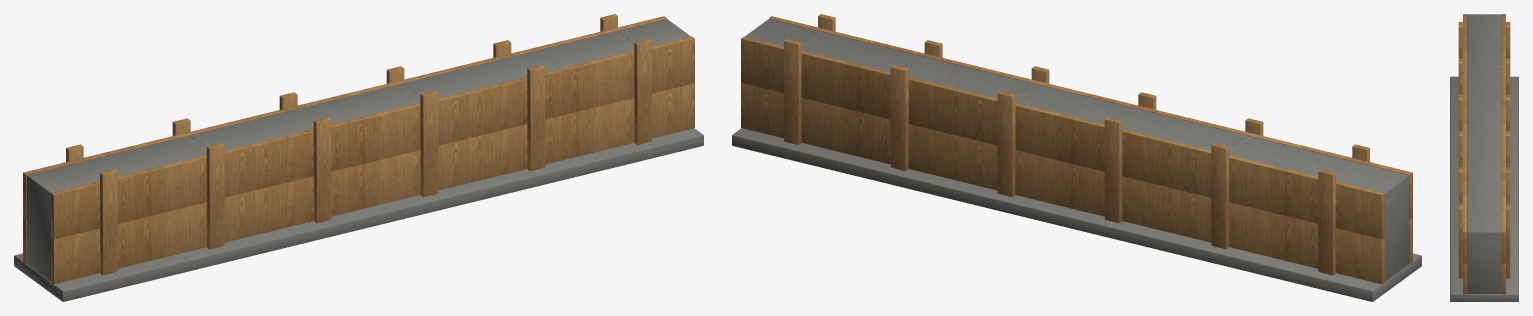
File: KIT-FUN-03_lod1.glb
The picture shows the model from 3 angles, left to right: view 1: azimuth 30°, elevation 25°; view 2: azimuth 150°, elevation 25°; view 3: azimuth 270°, elevation 25°; orthographic projection. The views are drawn at different scales.
Visible parts, largest first — view 1: KIT-FUN-03_tabua.001, KIT-FUN-03_tabua, KIT-FUN-03_viga, KIT-FUN-03_lastro, KIT-FUN-03_tabua.003, KIT-FUN-03_sarrafo.002, KIT-FUN-03_sarrafo.001, KIT-FUN-03_sarrafo.004, KIT-FUN-03_sarrafo.003, KIT-FUN-03_sarrafo, KIT-FUN-03_sarrafo.005; view 2: KIT-FUN-03_tabua.003, KIT-FUN-03_tabua.002, KIT-FUN-03_viga, KIT-FUN-03_lastro, KIT-FUN-03_tabua.001, KIT-FUN-03_sarrafo.008, KIT-FUN-03_sarrafo.007, KIT-FUN-03_sarrafo.010, KIT-FUN-03_sarrafo.009, KIT-FUN-03_sarrafo.006, KIT-FUN-03_sarrafo.011; view 3: KIT-FUN-03_viga, KIT-FUN-03_lastro, KIT-FUN-03_tabua.001, KIT-FUN-03_tabua.003, KIT-FUN-03_sarrafo.005, KIT-FUN-03_sarrafo.011, KIT-FUN-03_sarrafo.001, KIT-FUN-03_sarrafo.004, KIT-FUN-03_sarrafo.007, KIT-FUN-03_sarrafo.010, KIT-FUN-03_sarrafo, KIT-FUN-03_sarrafo.002 (+6 smaller).
Boxes of the visible parts, x1,y1,x2,y2 form: KIT-FUN-03_tabua.001: (51, 36, 694, 239); KIT-FUN-03_tabua: (51, 83, 694, 284); KIT-FUN-03_viga: (26, 19, 690, 281); KIT-FUN-03_lastro: (14, 128, 703, 301); KIT-FUN-03_tabua.003: (23, 16, 666, 219); KIT-FUN-03_sarrafo.002: (313, 117, 331, 223); KIT-FUN-03_sarrafo.001: (206, 143, 224, 249); KIT-FUN-03_sarrafo.004: (527, 65, 545, 170); KIT-FUN-03_sarrafo.003: (420, 91, 438, 197); KIT-FUN-03_sarrafo: (100, 169, 117, 275); KIT-FUN-03_sarrafo.005: (634, 39, 651, 144); KIT-FUN-03_tabua.003: (741, 36, 1384, 239); KIT-FUN-03_tabua.002: (741, 83, 1384, 284); KIT-FUN-03_viga: (745, 19, 1409, 281); KIT-FUN-03_lastro: (732, 128, 1421, 301); KIT-FUN-03_tabua.001: (769, 16, 1412, 219); KIT-FUN-03_sarrafo.008: (1104, 117, 1122, 223); KIT-FUN-03_sarrafo.007: (1211, 143, 1229, 249); KIT-FUN-03_sarrafo.010: (890, 65, 908, 170); KIT-FUN-03_sarrafo.009: (997, 91, 1015, 197); KIT-FUN-03_sarrafo.006: (1318, 169, 1335, 275); KIT-FUN-03_sarrafo.011: (784, 39, 801, 144); KIT-FUN-03_viga: (1467, 14, 1501, 293); KIT-FUN-03_lastro: (1450, 76, 1518, 301); KIT-FUN-03_tabua.001: (1463, 14, 1467, 263); KIT-FUN-03_tabua.003: (1501, 14, 1505, 263); KIT-FUN-03_sarrafo.005: (1458, 203, 1462, 278); KIT-FUN-03_sarrafo.011: (1506, 203, 1510, 278); KIT-FUN-03_sarrafo.001: (1458, 58, 1462, 94); KIT-FUN-03_sarrafo.004: (1458, 167, 1462, 203); KIT-FUN-03_sarrafo.007: (1506, 58, 1510, 94); KIT-FUN-03_sarrafo.010: (1506, 167, 1510, 203); KIT-FUN-03_sarrafo: (1458, 22, 1462, 58); KIT-FUN-03_sarrafo.002: (1458, 94, 1462, 130).
Size of the model in its own units: 3 by 0.5 by 0.3999.
3 materials, 3 textured.
